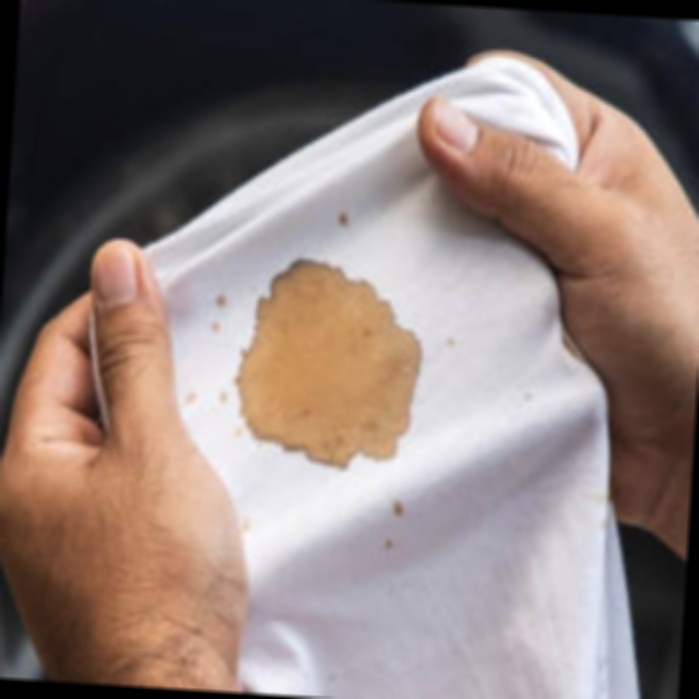coffee: (227, 251, 429, 474)
